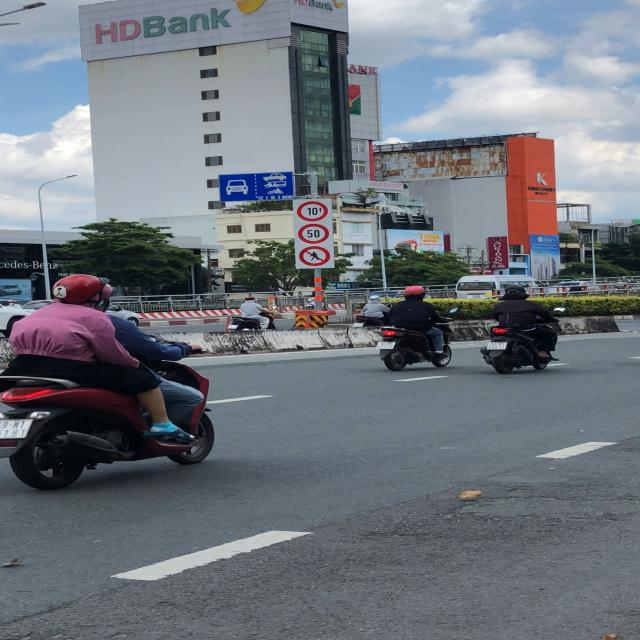Bien bao cam nguoi di bo: (297, 244, 333, 267)
Bien bao toc do toi da cho phep: (298, 222, 336, 244)
